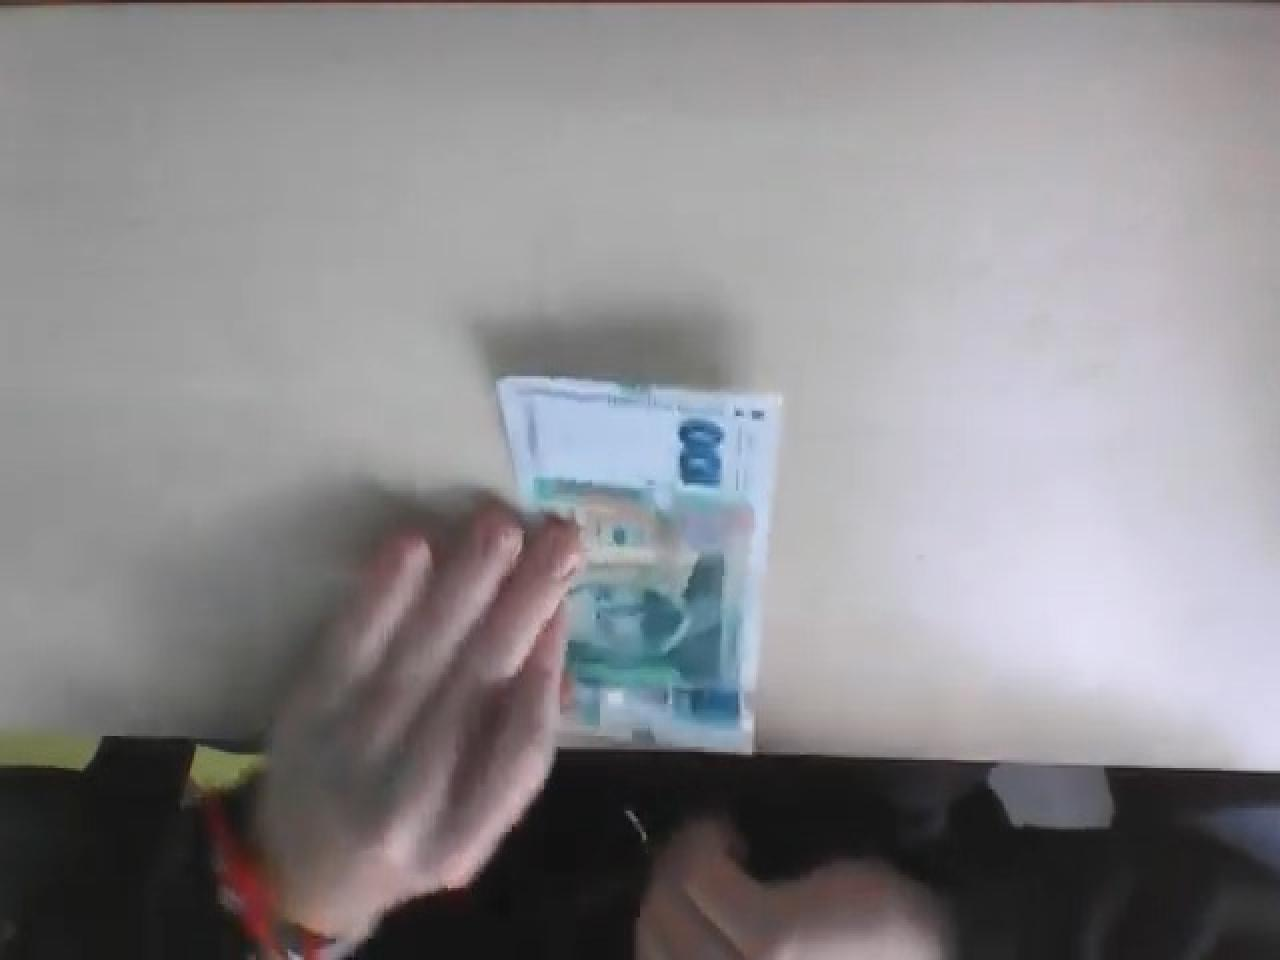100leva: (492, 371, 786, 752)
